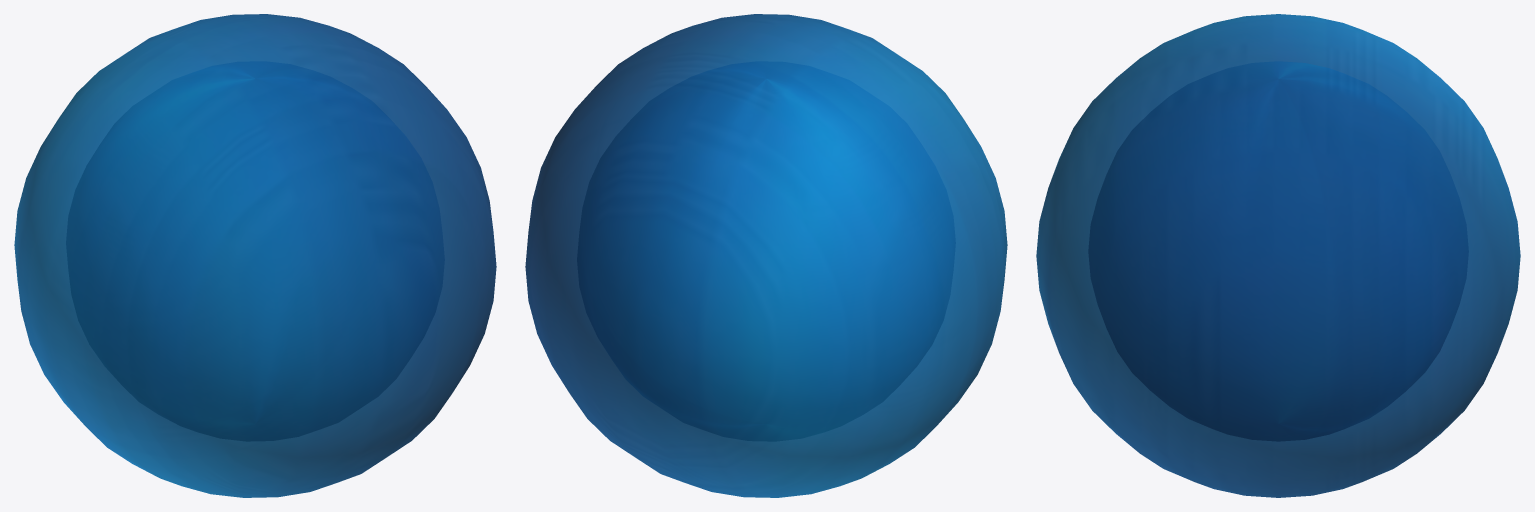
File: magic.fbx
3 renders of one model, left to right at view 1: azimuth 30°, elevation 25°; view 2: azimuth 150°, elevation 25°; view 3: azimuth 270°, elevation 25°, orthographic.
Visible parts, largest first — view 1: pSphere1, pSphere2; view 2: pSphere1, pSphere2; view 3: pSphere1, pSphere2.
Boxes of the visible parts, left/top/right/bottom form: pSphere1: left=14, top=14, right=496, bottom=497; pSphere2: left=66, top=62, right=444, bottom=440; pSphere1: left=525, top=14, right=1007, bottom=497; pSphere2: left=577, top=62, right=955, bottom=440; pSphere1: left=1036, top=14, right=1520, bottom=497; pSphere2: left=1089, top=62, right=1468, bottom=440.
Size of the model in its own units: 2 by 2 by 2.
Materials: 2 (2 with a texture image).
